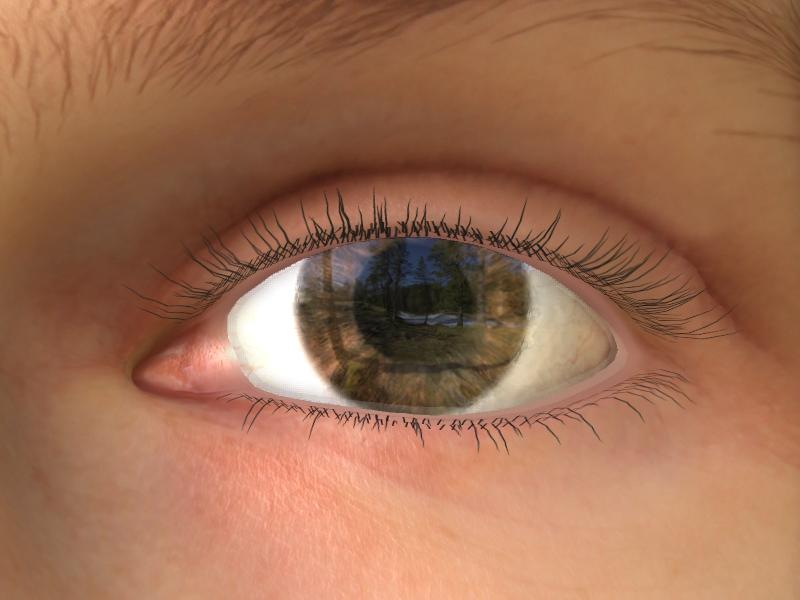eye: (295, 237, 533, 412)
